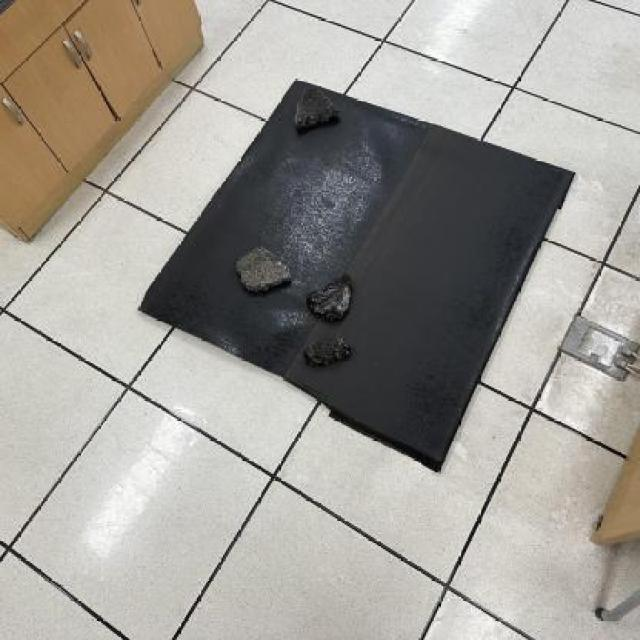Road Debris: (237, 250, 291, 296), (312, 278, 354, 326), (290, 93, 338, 133), (304, 338, 358, 366)
